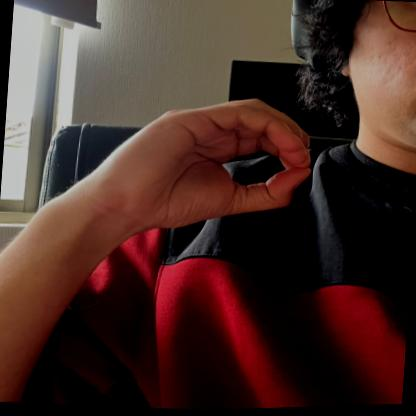O: (90, 83, 324, 255)
